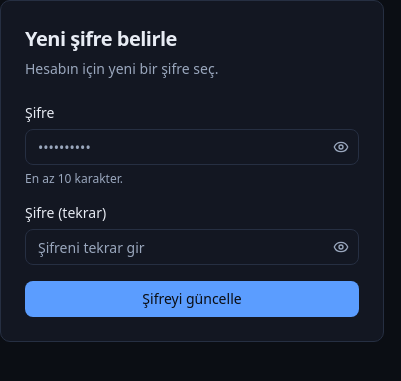
Test case: ResetPasswordForm › şifre uyuşmazlığında doğrulama hatası gösterir ve istek atmaz
In the password field labelled "Şifre": (192, 147) [25,129,359,165], type "0123456789"
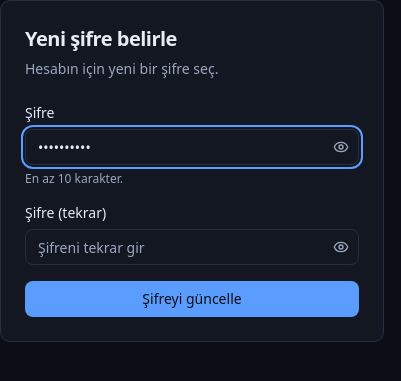
In the password field labelled "Şifre (tekrar)": (192, 247) [25,229,359,265], type "9876543210"
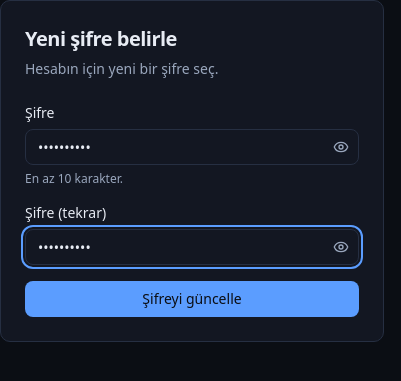
Click the button "Şifreyi güncelle": (192, 299) [25,281,359,317]
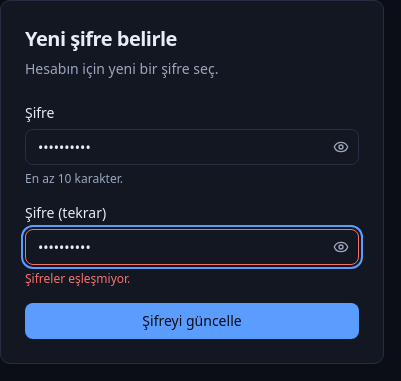
expect the text "Şifreler eşleşmiyor." is shown: met, box [25,270,130,287]
